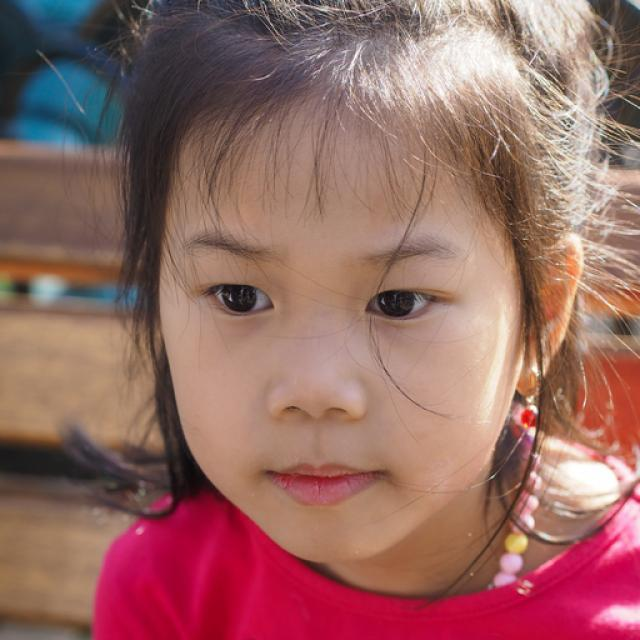neutral: (152, 114, 520, 572)
